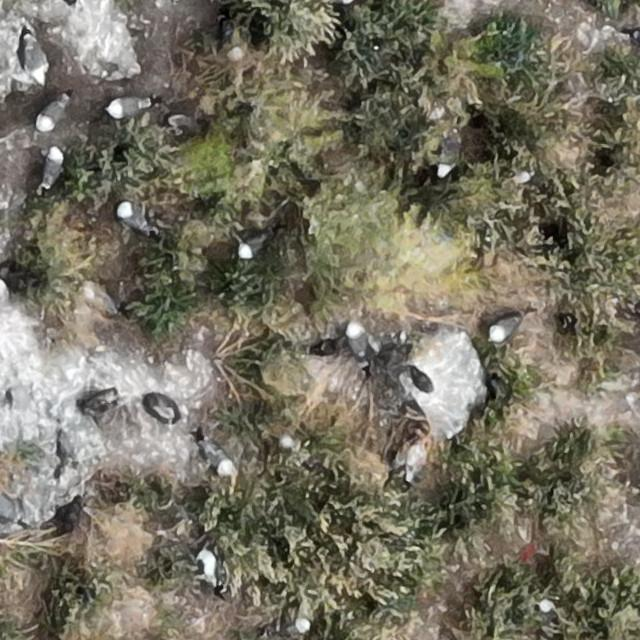umineko: (85, 278, 118, 314), (26, 32, 48, 84), (117, 205, 150, 234), (38, 98, 66, 130), (209, 443, 235, 473), (491, 316, 521, 341), (109, 97, 147, 116), (438, 138, 457, 176), (200, 554, 220, 588), (44, 149, 63, 184), (297, 600, 316, 633), (346, 325, 365, 357), (238, 234, 264, 257), (230, 30, 246, 66), (410, 369, 432, 394), (280, 410, 293, 447), (0, 495, 17, 522), (538, 601, 556, 626)
